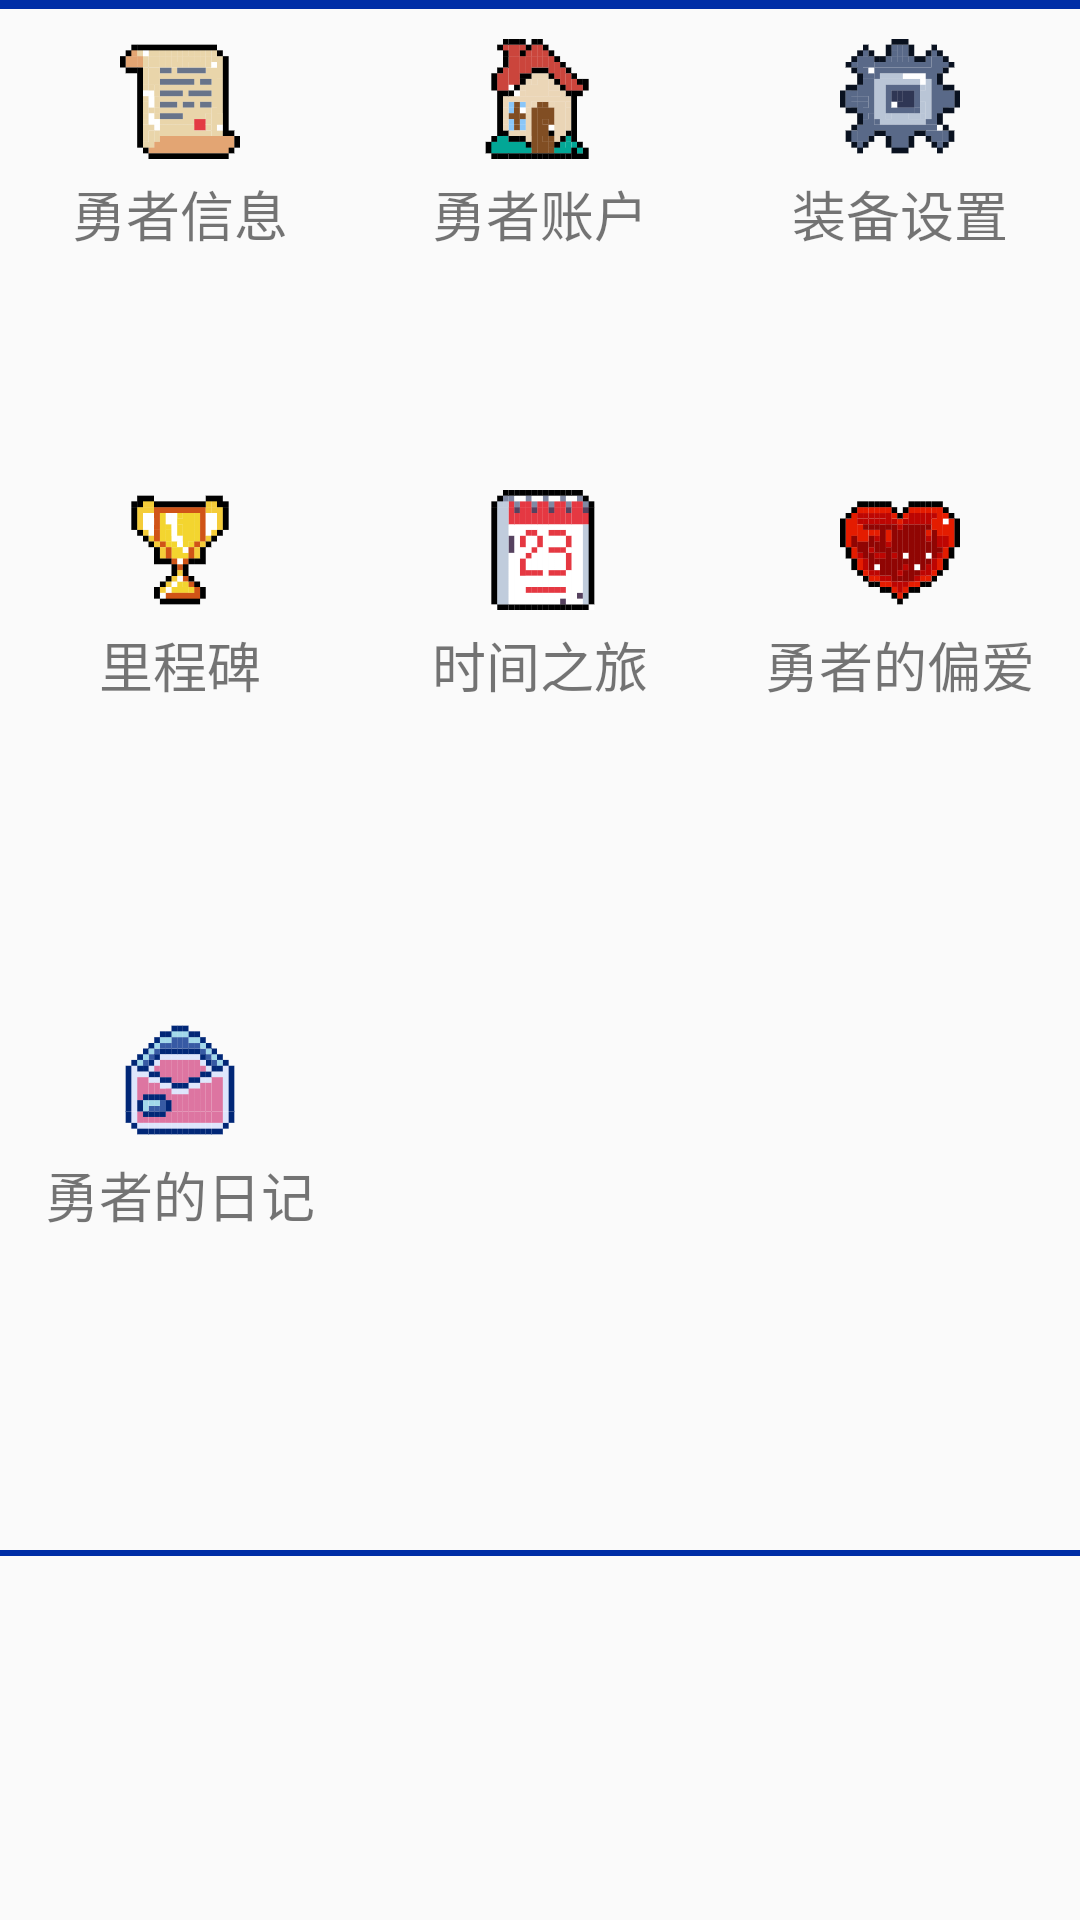

Icon click points for this 1080 × 1920 phone screenshot, format (x,y):
champion: (180,550)
date: (543,550)
